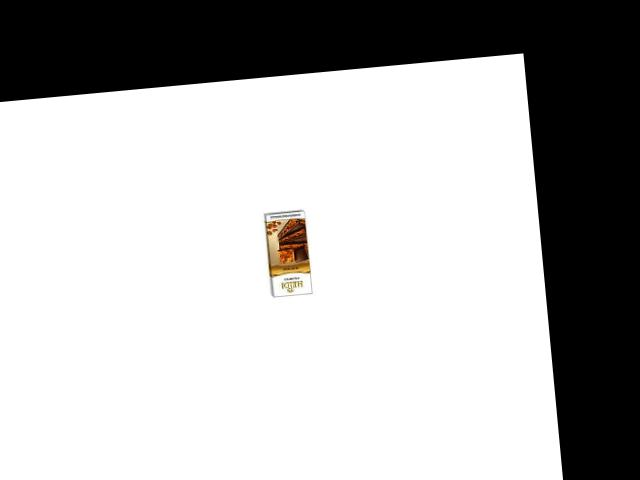chocolate: (247, 206, 321, 303)
